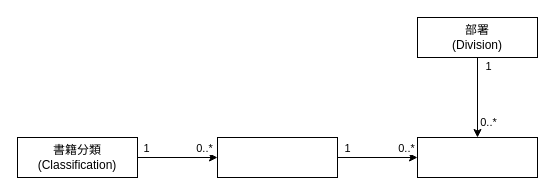
Some shapes in this 555 by 195 pixel diagram are drawn without their labels. Each missing label, with the box of its shape:
書籍 (Book): (416, 136, 538, 178)
書籍分類詳細 (ClassificationDetail): (216, 136, 338, 178)
